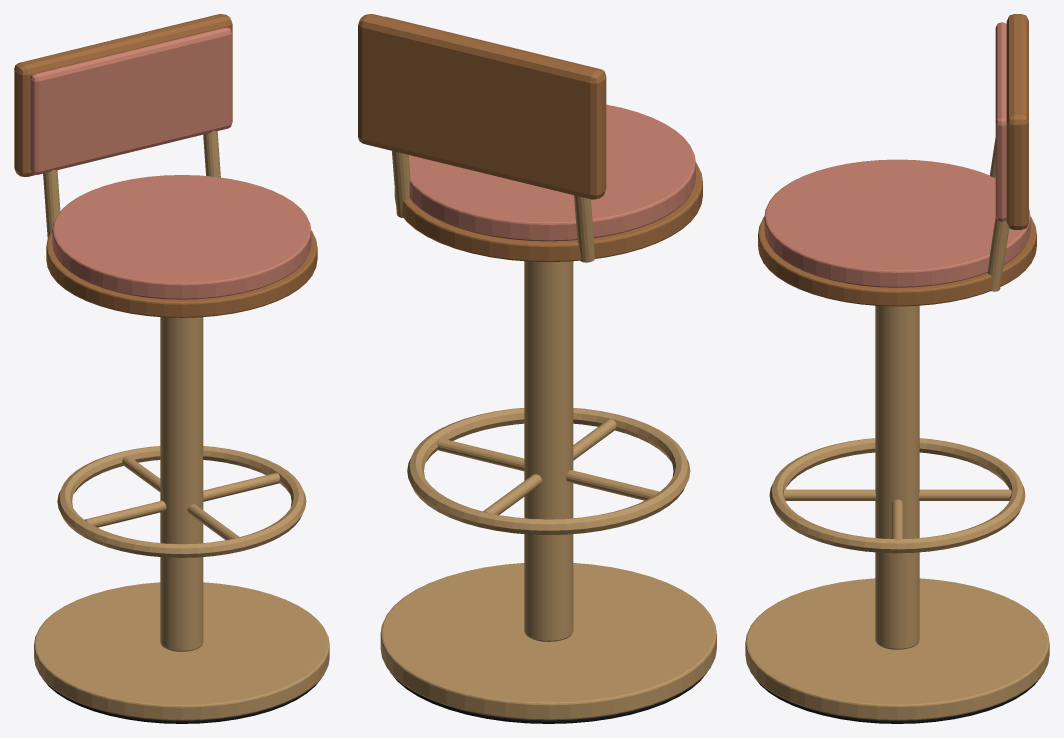
File: gogo-bar-stool.glb
3 views of the same model, side by side, from view 1: azimuth 30°, elevation 25°; view 2: azimuth 150°, elevation 25°; view 3: azimuth 270°, elevation 25° (orthographic). The views are drawn at different scales.
Parts seen in each view (by area): view 1: FIXED_Base, SEAT_Cushion, BACK_Cushion, FIXED_Column, FIXED_FootrestRing, SEAT_Shell, BACK_Shell, FIXED_BaseBumper, FIXED_FootrestSpoke_00, FIXED_FootrestSpoke_01, BACK_Support_00, BACK_Support_01 (+2 smaller); view 2: FIXED_Base, BACK_Shell, SEAT_Cushion, FIXED_Column, FIXED_FootrestRing, SEAT_Shell, FIXED_BaseBumper, FIXED_FootrestSpoke_00, FIXED_FootrestSpoke_01, BACK_Support_00, BACK_Support_01, FIXED_FootrestSpoke_02 (+1 smaller); view 3: FIXED_Base, SEAT_Cushion, FIXED_Column, FIXED_FootrestRing, SEAT_Shell, BACK_Shell, BACK_Cushion, FIXED_FootrestSpoke_02, FIXED_FootrestSpoke_03, BACK_Support_01, FIXED_BaseBumper, FIXED_FootrestSpoke_00.
Part boxes in pixels (x1,y1,x2,y2): FIXED_Base: (34, 582, 329, 720); SEAT_Cushion: (52, 175, 311, 299); BACK_Cushion: (30, 27, 231, 174); FIXED_Column: (160, 317, 203, 651); FIXED_FootrestRing: (57, 446, 306, 557); SEAT_Shell: (46, 230, 317, 317); BACK_Shell: (14, 14, 232, 176); FIXED_BaseBumper: (42, 678, 321, 723); FIXED_FootrestSpoke_00: (203, 473, 279, 501); FIXED_FootrestSpoke_01: (84, 500, 166, 527); BACK_Support_00: (43, 170, 60, 238); BACK_Support_01: (203, 130, 220, 177); FIXED_Base: (380, 563, 716, 720); BACK_Shell: (358, 14, 606, 199); SEAT_Cushion: (408, 104, 695, 241); FIXED_Column: (524, 261, 573, 641); FIXED_FootrestRing: (407, 408, 690, 534); SEAT_Shell: (394, 163, 702, 261); FIXED_BaseBumper: (390, 672, 706, 723); FIXED_FootrestSpoke_00: (437, 438, 524, 471); FIXED_FootrestSpoke_01: (566, 470, 659, 500); BACK_Support_00: (574, 195, 594, 262); BACK_Support_01: (392, 151, 410, 217); FIXED_FootrestSpoke_02: (483, 474, 542, 514); FIXED_Base: (745, 578, 1049, 720); SEAT_Cushion: (764, 159, 1030, 287); FIXED_Column: (875, 305, 919, 649); FIXED_FootrestRing: (769, 438, 1025, 553); SEAT_Shell: (758, 217, 1036, 306); BACK_Shell: (1006, 14, 1028, 229); BACK_Cushion: (995, 22, 1006, 221); FIXED_FootrestSpoke_02: (919, 489, 1011, 500); FIXED_FootrestSpoke_03: (783, 489, 875, 500); BACK_Support_01: (987, 217, 1009, 291); FIXED_BaseBumper: (754, 677, 1040, 723); FIXED_FootrestSpoke_00: (891, 499, 903, 538).
Size of the model in its own units: 0.48 by 1.04 by 0.48.
